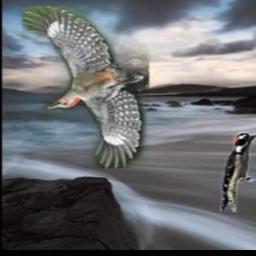Woodpecker: (22, 7, 149, 169), (221, 132, 256, 213)
